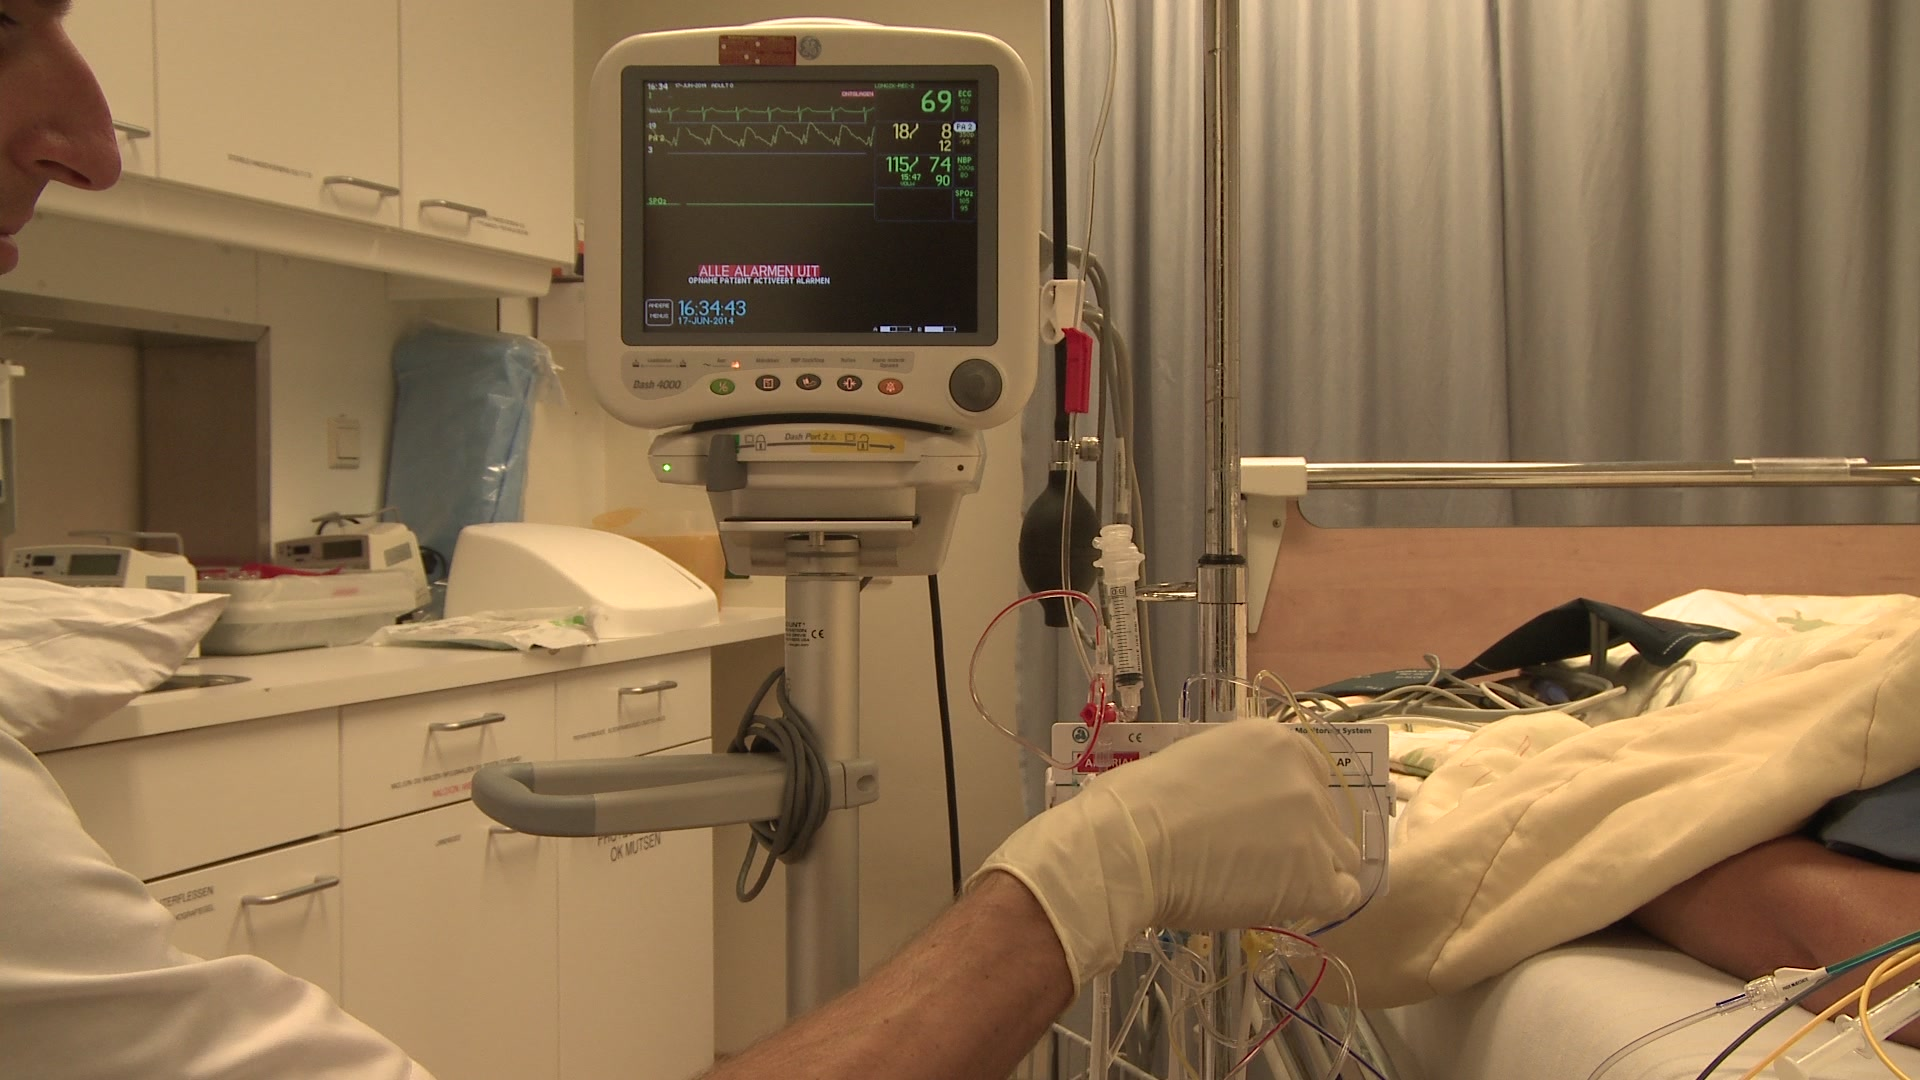bedside_monitor: (586, 20, 1040, 428)
cabinet: (1, 1, 576, 306)
counter: (1, 603, 778, 1058)
countertop: (30, 602, 788, 756)
curtain: (1075, 1, 1920, 528)
foot_board: (1233, 456, 1920, 697)
handle: (242, 877, 338, 906), (324, 172, 401, 198), (424, 714, 506, 730), (422, 199, 486, 220), (113, 116, 150, 141), (618, 681, 674, 695), (488, 826, 511, 840)
hospital_bed: (1220, 457, 1920, 1080)
iv_pole: (1200, 1, 1245, 726)
light_switch: (329, 416, 367, 470)
staff: (1, 1, 1362, 1080)
